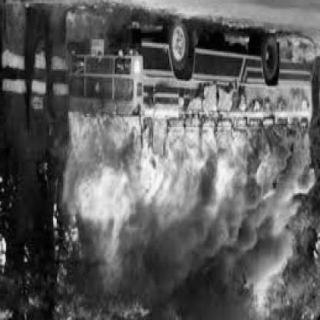Fire: (64, 10, 114, 27)
